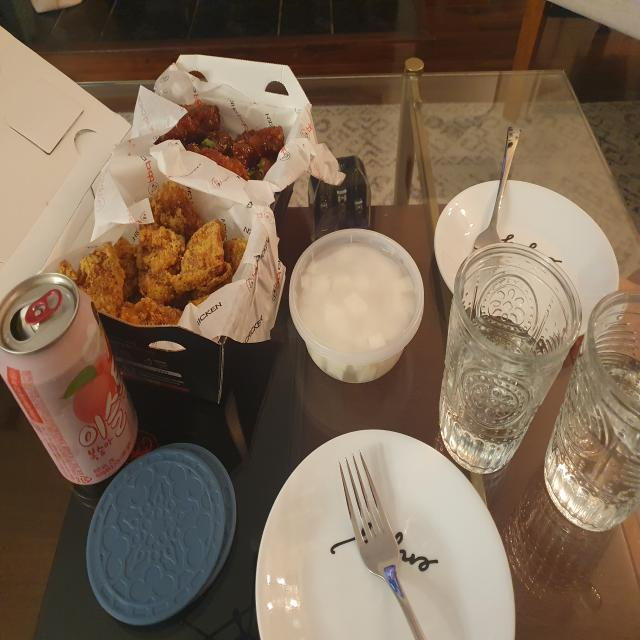Bowl: (288, 227, 425, 384)
Cup: (438, 242, 582, 474), (543, 290, 640, 533)
Plate: (254, 428, 516, 640), (433, 179, 620, 338)
